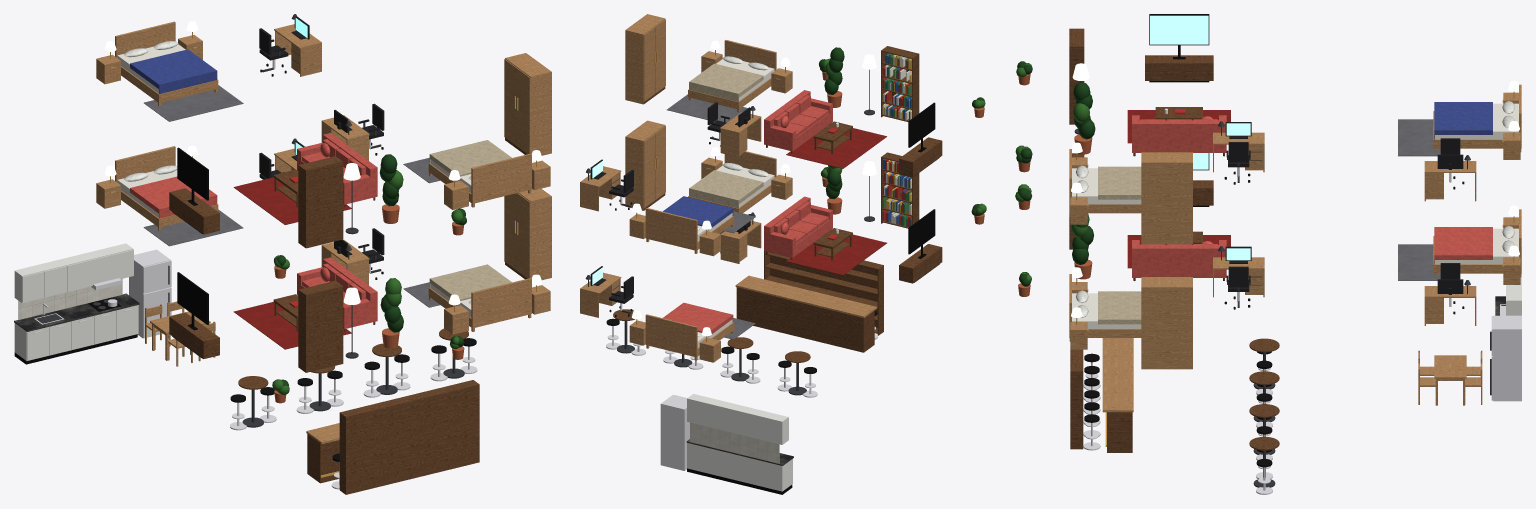
Rendered from i_nola_iron_balcony.gltf.
3 views of the same model, side by side, from view 1: azimuth 30°, elevation 25°; view 2: azimuth 150°, elevation 25°; view 3: azimuth 270°, elevation 25° (orthographic). The views are drawn at different scales.
Parts seen in each view (by area): view 1: I_nola_iron_balcony; view 2: I_nola_iron_balcony; view 3: I_nola_iron_balcony.
Boxes of the visible parts, x1=… form: I_nola_iron_balcony: x1=14, y1=14, x2=551, y2=494; I_nola_iron_balcony: x1=580, y1=14, x2=986, y2=494; I_nola_iron_balcony: x1=1015, y1=14, x2=1521, y2=494.
Size of the model in its own units: 9.36 by 8.7 by 11.77.
31 materials, 11 textured.
